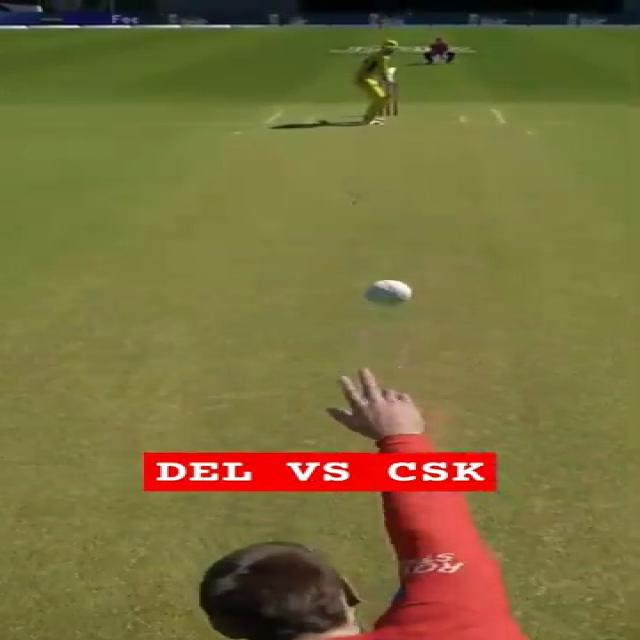ball: (356, 277, 421, 312)
